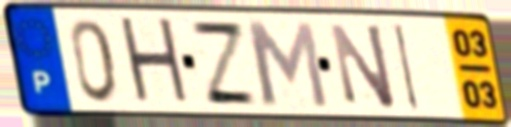0: (68, 17, 120, 104)
H: (115, 14, 195, 110)
I: (391, 20, 422, 113)
M: (241, 18, 333, 111)
N: (326, 21, 399, 112)
Z: (186, 18, 262, 109)
